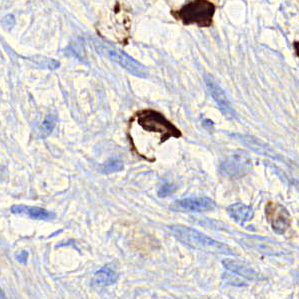Lymphocyte: (177, 1, 217, 29)
